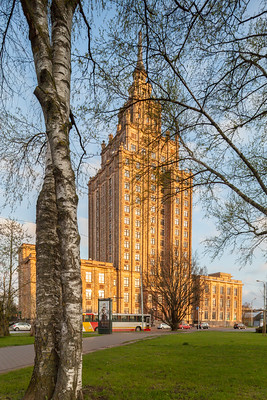low: (85, 60, 198, 328)
